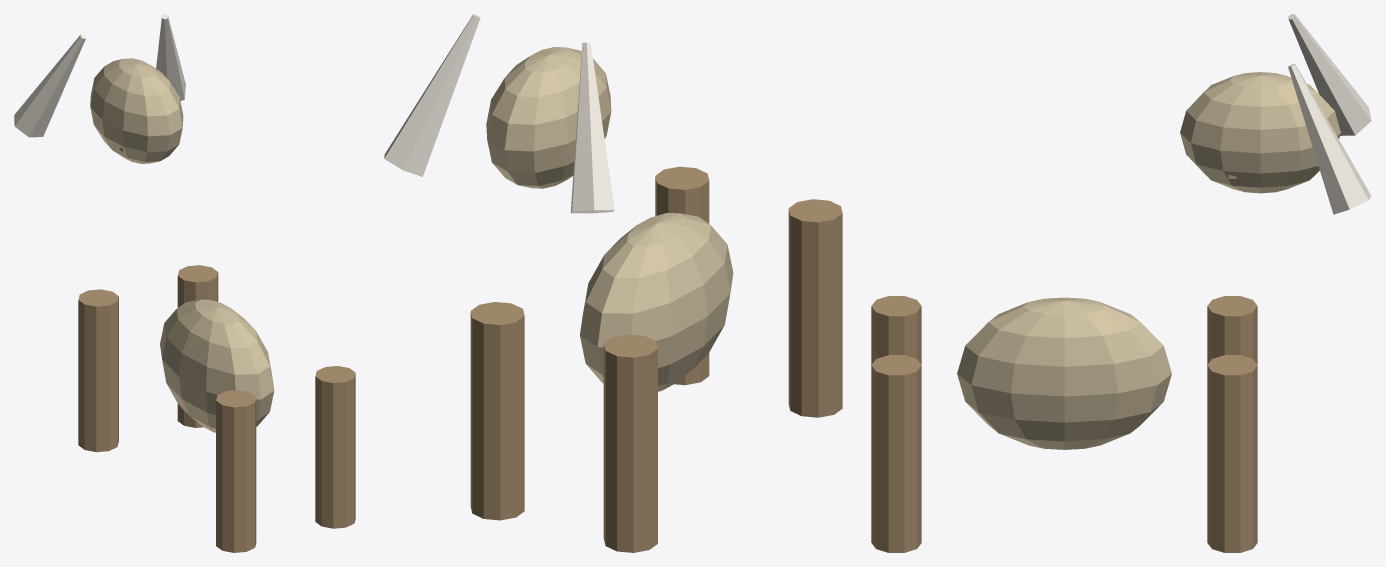
The model's file is kambing.glb.
3 views of the same model, side by side, from view 1: azimuth 30°, elevation 25°; view 2: azimuth 150°, elevation 25°; view 3: azimuth 270°, elevation 25° (orthographic). The views are drawn at different scales.
Parts seen in each view (by area): view 1: kambing_body, kambing_head, kambing_leg_FL, kambing_leg_BL, kambing_leg_BR, kambing_tanduk_kanan, kambing_leg_FR, kambing_tanduk_kiri; view 2: kambing_body, kambing_leg_FL, kambing_leg_BL, kambing_leg_FR, kambing_head, kambing_tanduk_kiri, kambing_tanduk_kanan, kambing_leg_BR; view 3: kambing_body, kambing_head, kambing_leg_FR, kambing_leg_BR, kambing_tanduk_kiri, kambing_tanduk_kanan, kambing_leg_FL, kambing_leg_BL.
Boxes of the visible parts, box(x1,y1,x2,y2) form: kambing_body: box(160, 299, 274, 432); kambing_head: box(90, 58, 183, 163); kambing_leg_FL: box(78, 289, 118, 452); kambing_leg_BL: box(216, 390, 256, 552); kambing_leg_BR: box(315, 366, 355, 528); kambing_tanduk_kanan: box(14, 34, 85, 137); kambing_leg_FR: box(177, 265, 218, 427); kambing_tanduk_kiri: box(156, 14, 185, 100); kambing_body: box(580, 213, 733, 391); kambing_leg_FL: box(603, 334, 657, 552); kambing_leg_BL: box(788, 199, 842, 417); kambing_leg_FR: box(470, 302, 524, 520); kambing_head: box(486, 47, 611, 188); kambing_tanduk_kiri: box(384, 14, 480, 176); kambing_tanduk_kanan: box(570, 42, 614, 213); kambing_leg_BR: box(655, 166, 709, 385); kambing_body: box(957, 297, 1171, 449); kambing_head: box(1180, 72, 1340, 193); kambing_leg_FR: box(1207, 355, 1257, 552); kambing_leg_BR: box(871, 355, 921, 552); kambing_tanduk_kiri: box(1288, 63, 1371, 214); kambing_tanduk_kanan: box(1288, 14, 1371, 135); kambing_leg_FL: box(1207, 296, 1257, 364); kambing_leg_BL: box(871, 296, 921, 364).
Bounding box in the file's own units: 0.8629 × 1.87 × 1.79.
